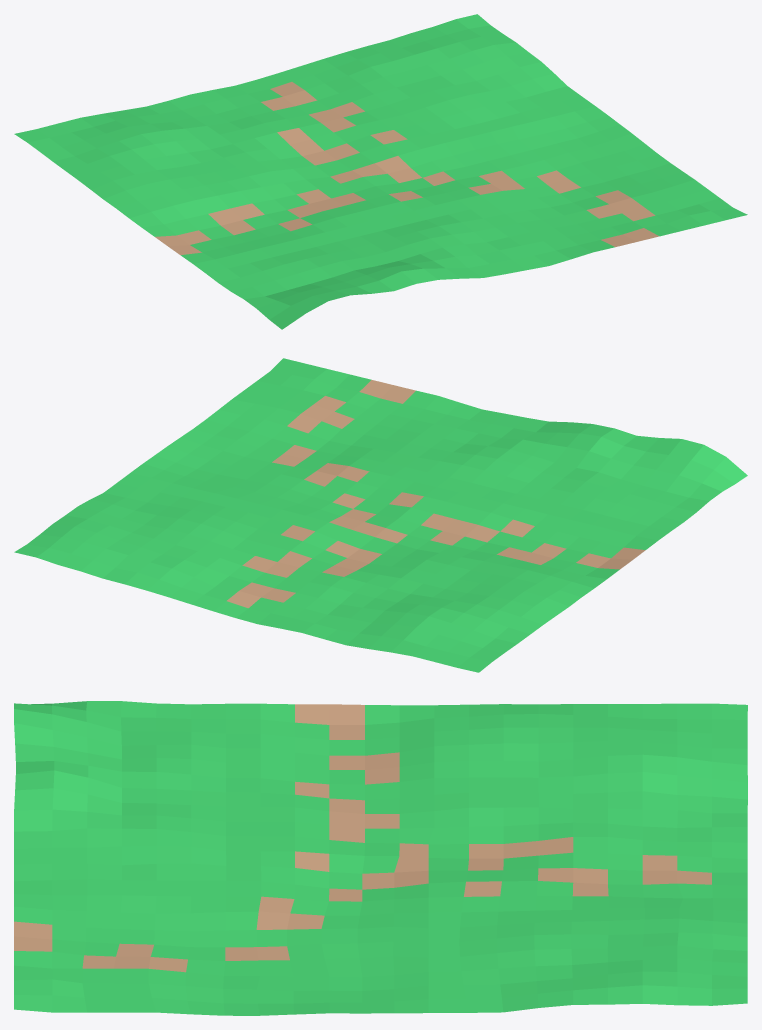
File: Land5.fbx
3 views of the same model, one above another, from view 1: azimuth 30°, elevation 25°; view 2: azimuth 150°, elevation 25°; view 3: azimuth 270°, elevation 25° (orthographic). The views are drawn at different scales.
Visible parts, largest first — view 1: PlatformCenter; view 2: PlatformCenter; view 3: PlatformCenter.
Boxes of the visible parts, x1=… form: PlatformCenter: x1=14, y1=14, x2=747, y2=329; PlatformCenter: x1=14, y1=358, x2=747, y2=672; PlatformCenter: x1=14, y1=701, x2=747, y2=1015.
Size of the model in its own units: 3510 by 180 by 3523.
